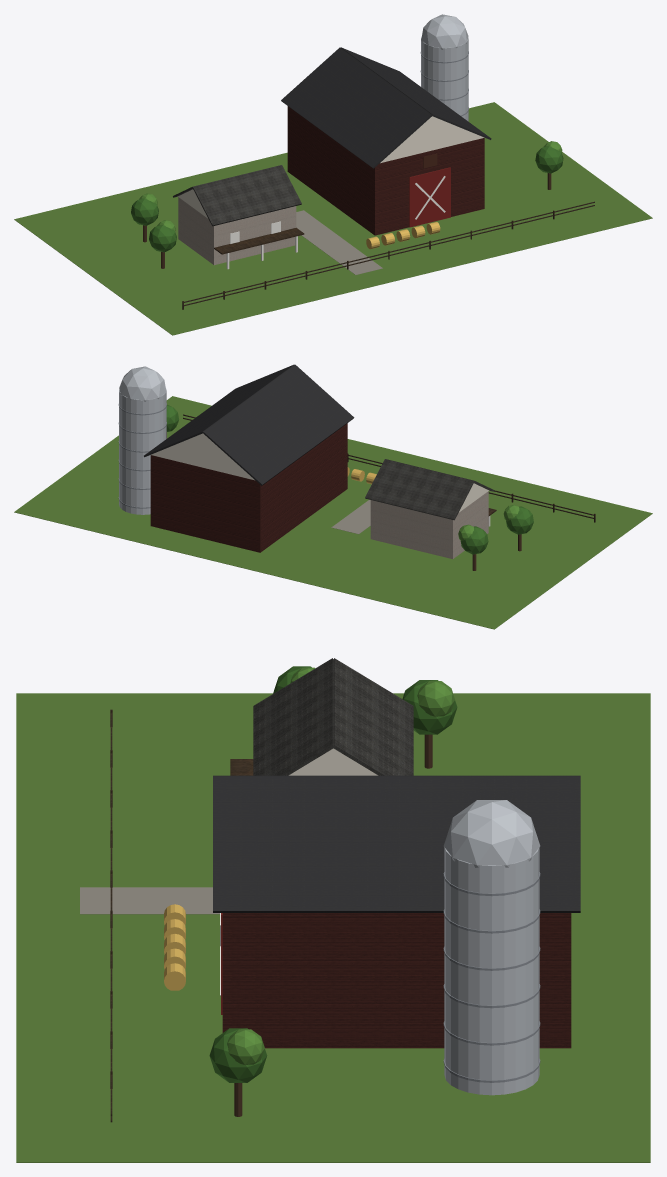
Rendered from OT_Farm_A.glb.
3 views of the same model, one above another, from view 1: azimuth 30°, elevation 25°; view 2: azimuth 150°, elevation 25°; view 3: azimuth 270°, elevation 25° (orthographic). The views are drawn at different scales.
Visible parts, largest first — view 1: OT_Farm_A_Grass__5a7d38, OT_Farm_A_BarnRed, OT_Farm_A_Corrugated, OT_Farm_A_Shingle, OT_Farm_A_Silo__b9bec4, OT_Farm_A_Siding, OT_Farm_A_Gable__e8e2d4, OT_Farm_A_BarnDoor__7a2420, OT_Farm_A_Gravel__8f8a80, OT_Farm_A_Leaf__3f6e2c, OT_Farm_A_Wood.001, OT_Farm_A_Wood (+2 smaller); view 2: OT_Farm_A_Grass__5a7d38, OT_Farm_A_BarnRed, OT_Farm_A_Corrugated, OT_Farm_A_Silo__b9bec4, OT_Farm_A_Siding, OT_Farm_A_Shingle, OT_Farm_A_Gable__e8e2d4, OT_Farm_A_Leaf__3f6e2c, OT_Farm_A_Gravel__8f8a80, OT_Farm_A_Wood.001, OT_Farm_A_SiloRing__8a8f96; view 3: OT_Farm_A_Grass__5a7d38, OT_Farm_A_Corrugated, OT_Farm_A_BarnRed, OT_Farm_A_Silo__b9bec4, OT_Farm_A_Shingle, OT_Farm_A_Gravel__8f8a80, OT_Farm_A_Leaf__3f6e2c, OT_Farm_A_Leaf2__58893a, OT_Farm_A_SiloRing__8a8f96, OT_Farm_A_HayBale__d8b25a, OT_Farm_A_Gable__e8e2d4, OT_Farm_A_Wood.001.
Boxes of the visible parts, x1=… form: OT_Farm_A_Grass__5a7d38: x1=14, y1=102, x2=652, y2=335; OT_Farm_A_BarnRed: x1=287, y1=106, x2=484, y2=235; OT_Farm_A_Corrugated: x1=281, y1=47, x2=491, y2=168; OT_Farm_A_Shingle: x1=173, y1=165, x2=301, y2=226; OT_Farm_A_Silo__b9bec4: x1=421, y1=14, x2=468, y2=121; OT_Farm_A_Siding: x1=178, y1=197, x2=296, y2=265; OT_Farm_A_Gable__e8e2d4: x1=178, y1=116, x2=484, y2=218; OT_Farm_A_BarnDoor__7a2420: x1=409, y1=167, x2=450, y2=227; OT_Farm_A_Gravel__8f8a80: x1=296, y1=210, x2=382, y2=274; OT_Farm_A_Leaf__3f6e2c: x1=131, y1=146, x2=563, y2=252; OT_Farm_A_Wood.001: x1=182, y1=201, x2=594, y2=309; OT_Farm_A_Wood: x1=214, y1=227, x2=304, y2=254; OT_Farm_A_Grass__5a7d38: x1=14, y1=396, x2=652, y2=629; OT_Farm_A_BarnRed: x1=150, y1=423, x2=347, y2=552; OT_Farm_A_Corrugated: x1=144, y1=364, x2=354, y2=485; OT_Farm_A_Silo__b9bec4: x1=119, y1=366, x2=166, y2=514; OT_Farm_A_Siding: x1=370, y1=491, x2=488, y2=558; OT_Farm_A_Shingle: x1=365, y1=459, x2=493, y2=520; OT_Farm_A_Gable__e8e2d4: x1=151, y1=433, x2=488, y2=512; OT_Farm_A_Leaf__3f6e2c: x1=166, y1=404, x2=533, y2=554; OT_Farm_A_Gravel__8f8a80: x1=331, y1=499, x2=370, y2=534; OT_Farm_A_Wood.001: x1=183, y1=414, x2=595, y2=522; OT_Farm_A_SiloRing__8a8f96: x1=118, y1=403, x2=166, y2=508; OT_Farm_A_Grass__5a7d38: x1=16, y1=693, x2=650, y2=1162; OT_Farm_A_Corrugated: x1=213, y1=775, x2=580, y2=912; OT_Farm_A_BarnRed: x1=222, y1=913, x2=571, y2=1048; OT_Farm_A_Silo__b9bec4: x1=443, y1=800, x2=540, y2=1095; OT_Farm_A_Shingle: x1=253, y1=658, x2=413, y2=775; OT_Farm_A_Gravel__8f8a80: x1=80, y1=887, x2=219, y2=914; OT_Farm_A_Leaf__3f6e2c: x1=209, y1=666, x2=457, y2=1082; OT_Farm_A_Leaf2__58893a: x1=227, y1=667, x2=454, y2=1065; OT_Farm_A_SiloRing__8a8f96: x1=443, y1=872, x2=540, y2=1082; OT_Farm_A_HayBale__d8b25a: x1=164, y1=904, x2=185, y2=990; OT_Farm_A_Gable__e8e2d4: x1=289, y1=748, x2=377, y2=775; OT_Farm_A_Wood.001: x1=110, y1=709, x2=112, y2=1122.
Bounding box in the file's own units: 70 × 19.05 × 40.
19 materials, 6 textured.
